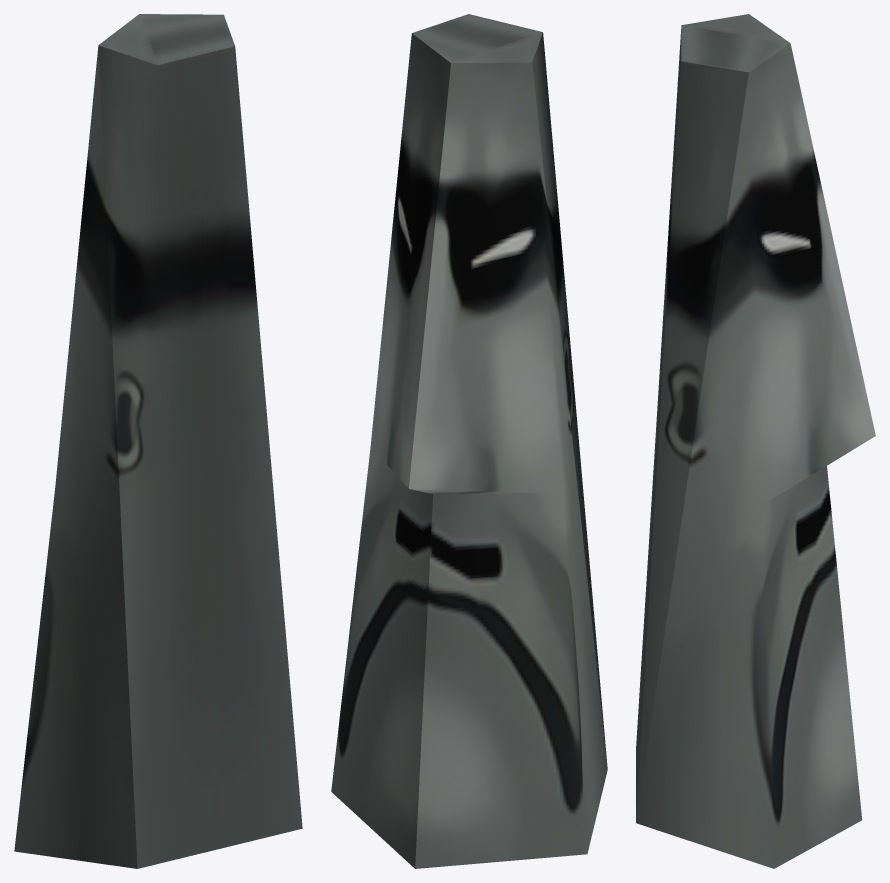
The model's file is swindler.glb.
3 views of the same model, side by side, from view 1: azimuth 30°, elevation 25°; view 2: azimuth 150°, elevation 25°; view 3: azimuth 270°, elevation 25° (orthographic). The views are drawn at different scales.
Parts seen in each view (by area): view 1: swindler; view 2: swindler; view 3: swindler.
Boxes of the visible parts, left/top/right/bottom form: swindler: left=14, top=14, right=302, bottom=868; swindler: left=331, top=14, right=607, bottom=868; swindler: left=636, top=14, right=875, bottom=868.
Bounding box in the file's own units: 1.07 × 3.11 × 0.8696.
Materials: 1 (1 with a texture image).
